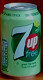sevenup: (1, 3, 41, 77)
